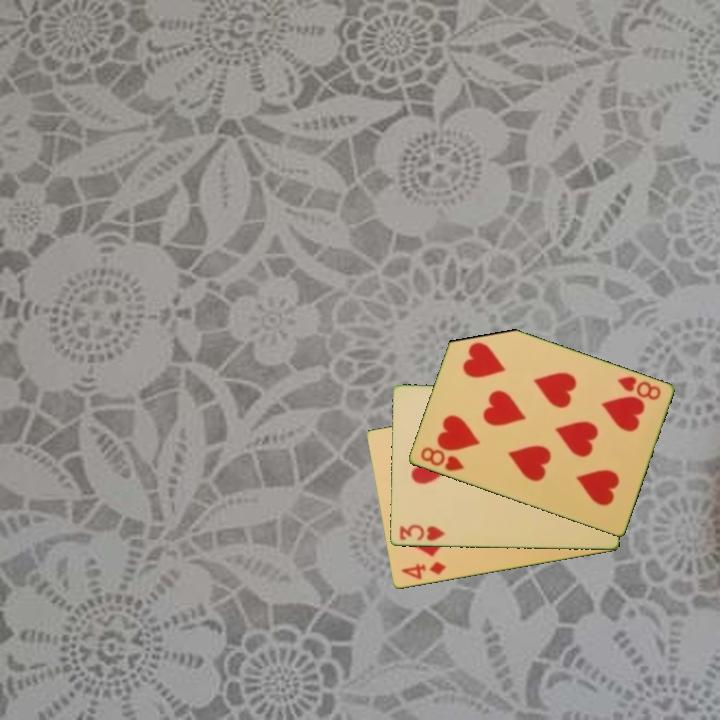3h: (396, 521, 447, 544)
4d: (398, 558, 448, 583)
8h: (417, 444, 467, 474), (614, 373, 663, 403)
